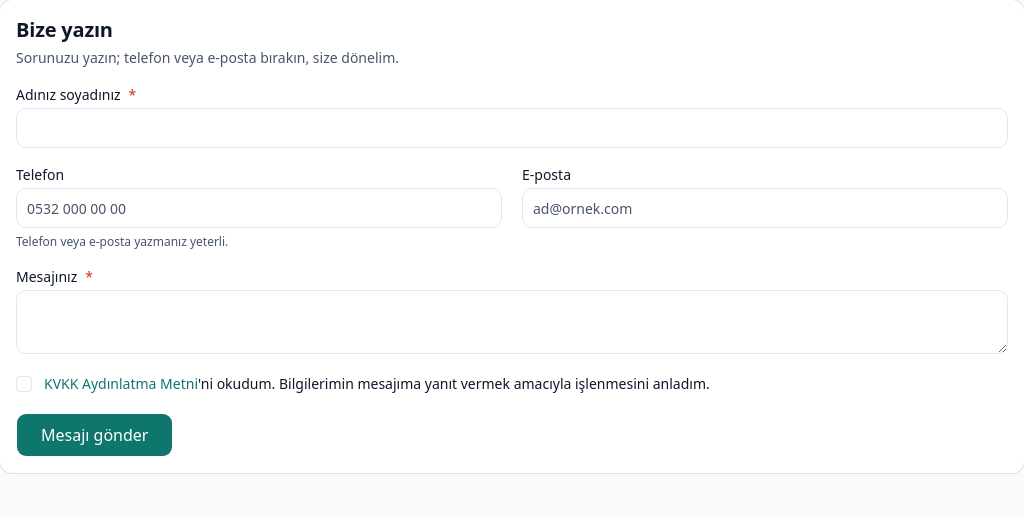
Test: ContactForm › asks for a phone or an e-mail
Type "Ahmet Yılmaz" into the field labelled "Adınız soyadınız *".
click(512, 128); type("Ahmet Yılmaz")  # box [16,108,1008,148]
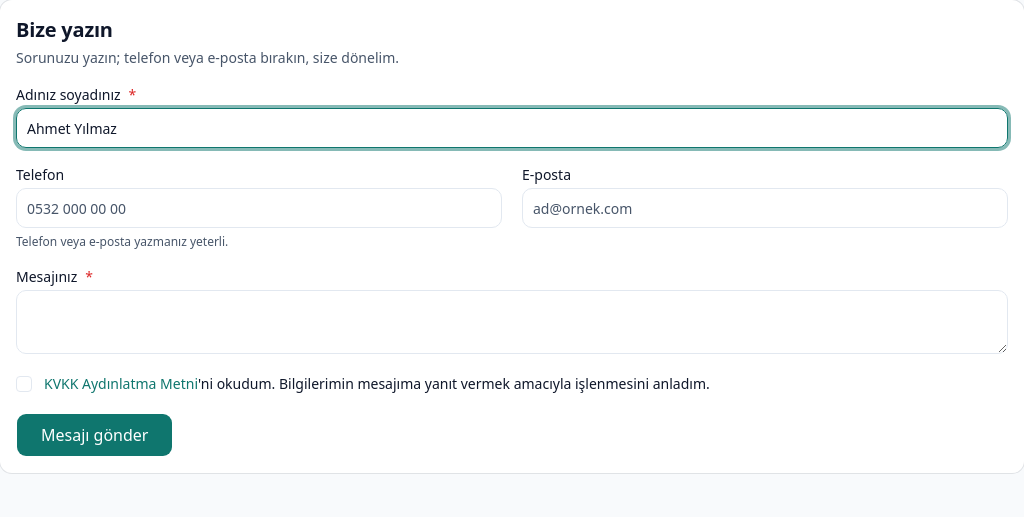
Type "Merhaba, bilgi almak istiyorum." into the text box labelled "Mesajınız *".
click(512, 322); type("Merhaba, bilgi almak istiyorum.")  # box [16,290,1008,354]
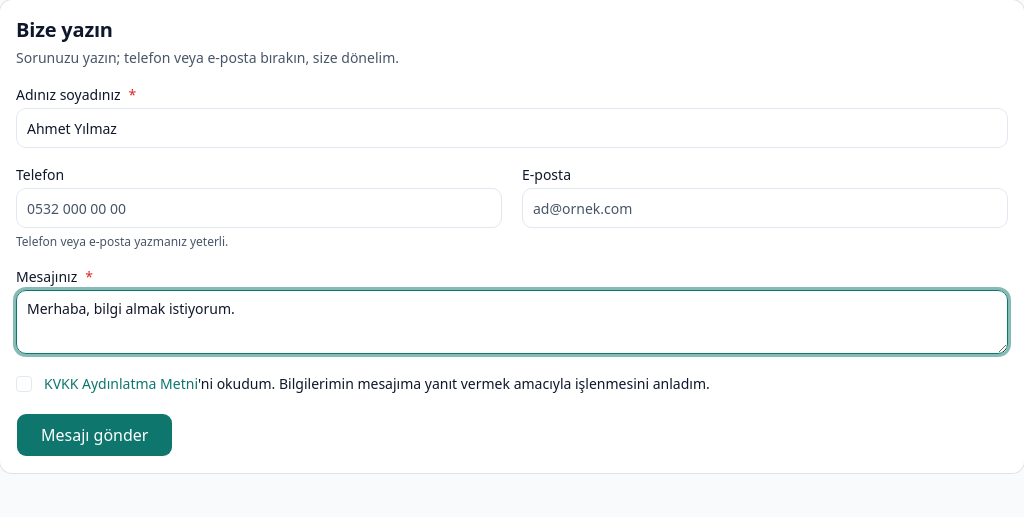
Click the checkbox named "KVKK Aydınlatma Metni".
click(24, 384)  # box [16,376,32,392]
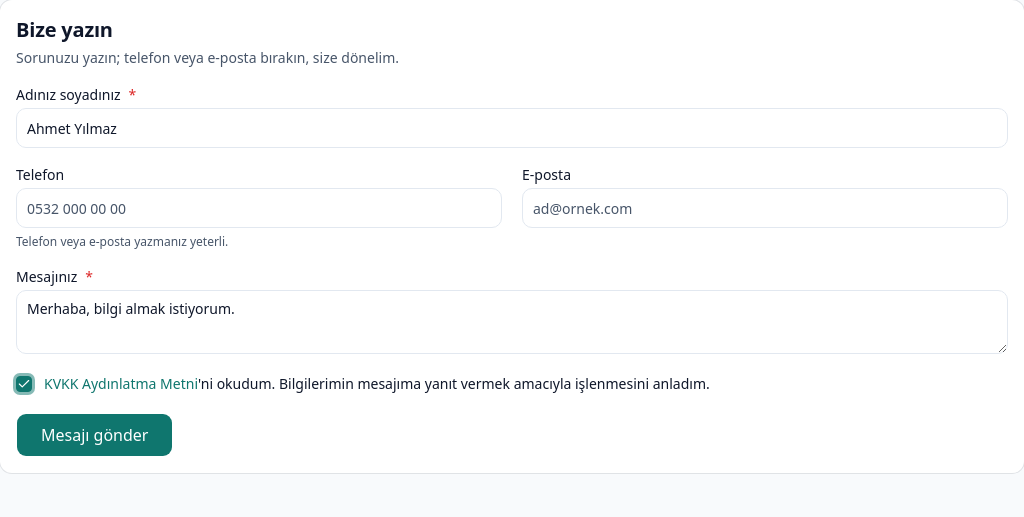
Click the button "Mesajı gönder".
click(95, 435)  # box [16,413,174,457]
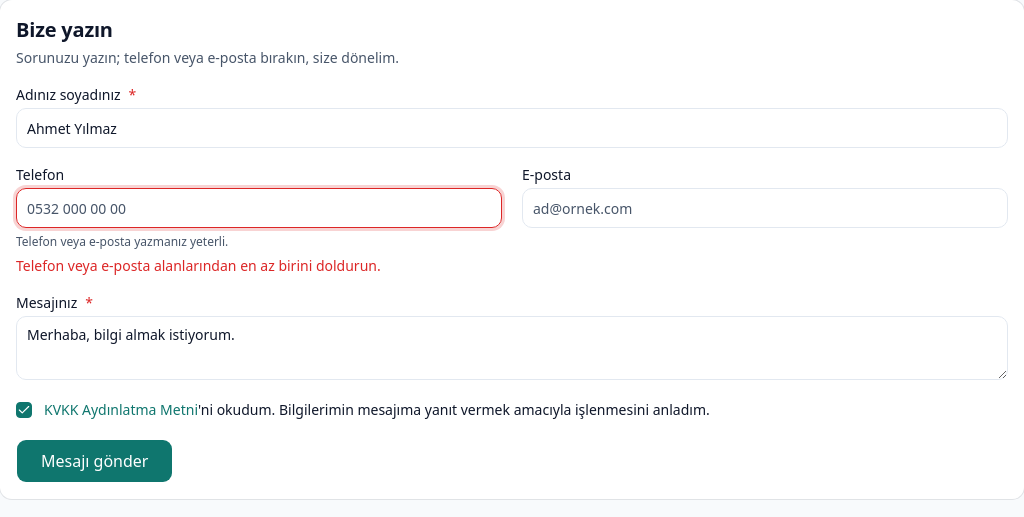
Check: the text "Telefon veya e-posta alanlarından en az birini doldurun." is shown, box [16,256,381,275]
